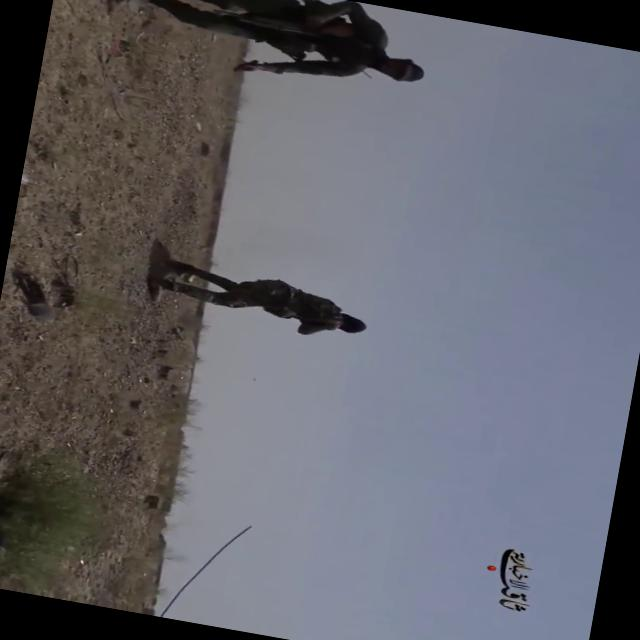long weapon: (213, 0, 367, 57)
